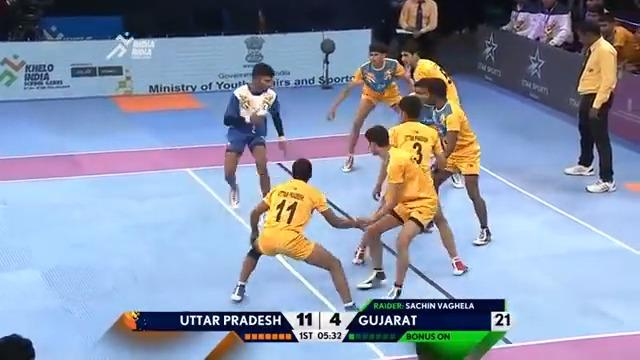Player: (230, 157, 371, 312), (353, 124, 444, 299), (408, 77, 492, 246), (326, 41, 414, 172), (563, 18, 619, 193), (399, 41, 461, 125)
Raider: (222, 61, 286, 208)
referee: (583, 3, 639, 192), (1, 0, 64, 41), (396, 0, 438, 57)
